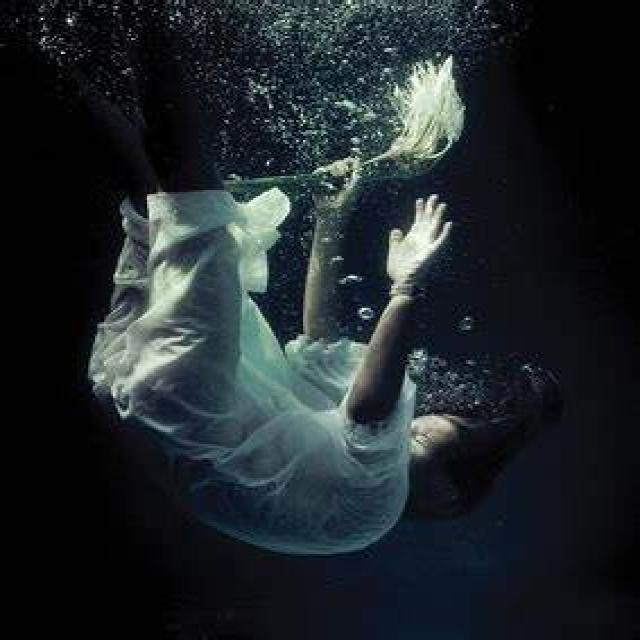drowning: (78, 69, 563, 575)
